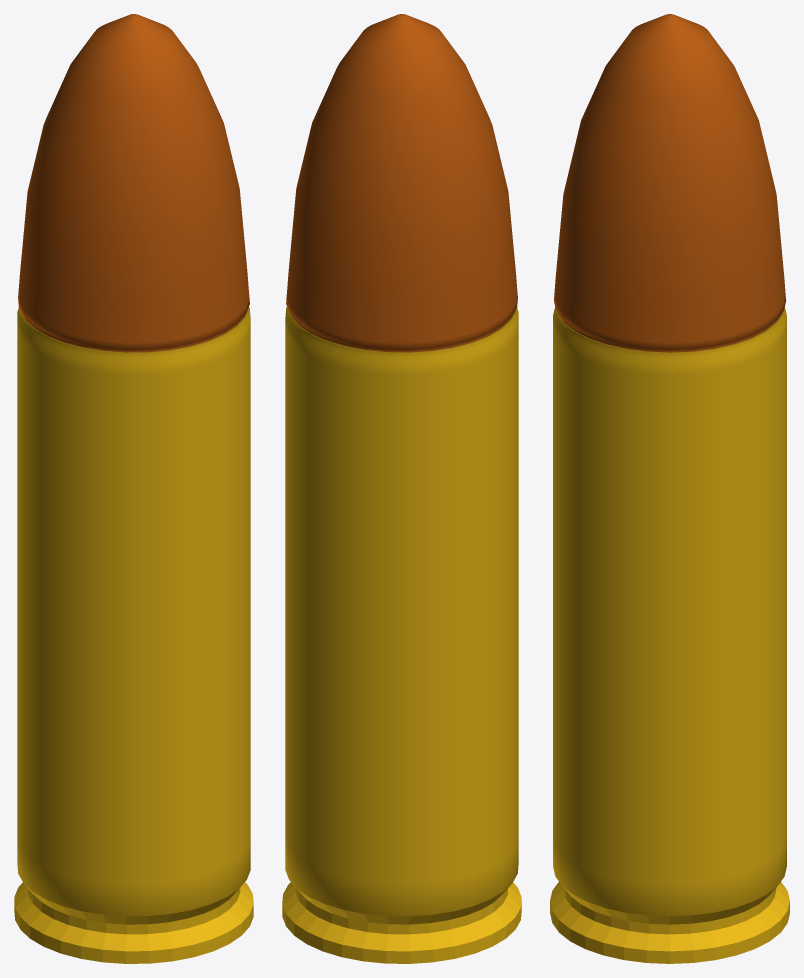
File: Bullet.fbx
3 views of the same model, side by side, from view 1: azimuth 30°, elevation 25°; view 2: azimuth 150°, elevation 25°; view 3: azimuth 270°, elevation 25° (orthographic).
Parts seen in each view (by area): view 1: Ammo Bottom, Ammo Top; view 2: Ammo Bottom, Ammo Top; view 3: Ammo Bottom, Ammo Top.
Boxes of the visible parts, box(x1,y1,x2,y2) form: Ammo Bottom: box(14, 307, 253, 963); Ammo Top: box(18, 14, 249, 352); Ammo Bottom: box(282, 307, 521, 963); Ammo Top: box(286, 14, 517, 352); Ammo Bottom: box(550, 307, 789, 963); Ammo Top: box(554, 14, 786, 352).
Size of the model in its own units: 16.43 by 67.83 by 16.43.
